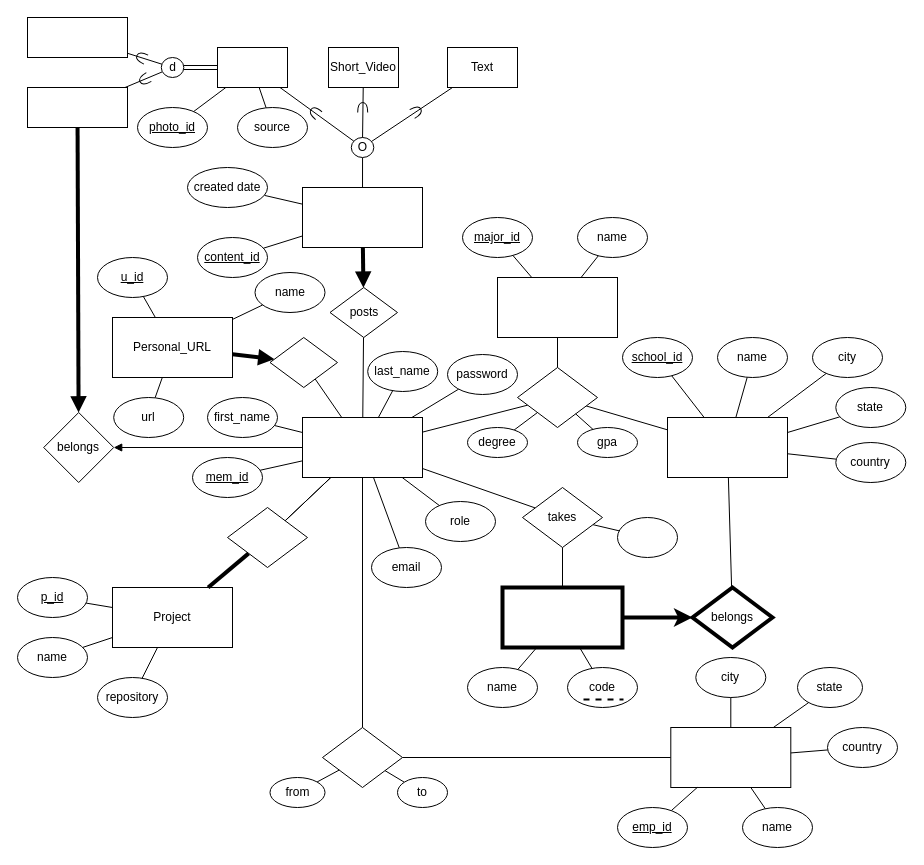
Image size: 924x865. Some labels were removed from this diagram. Here are the shapes that lost their labels. From the top down, the box of each, then its label:
(26, 16, 128, 58): Regular_Photo
(216, 46, 288, 88): Photo
(26, 86, 128, 128): Account_Photo
(302, 186, 422, 248): Content
(496, 276, 618, 338): major
(269, 336, 338, 388): has
(516, 366, 598, 428): graduates
(302, 416, 422, 478): Member
(666, 416, 788, 478): School
(226, 506, 308, 568): owns
(616, 516, 678, 558): grade
(500, 585, 624, 649): Course
(322, 726, 402, 788): works
(670, 726, 791, 788): Employer
